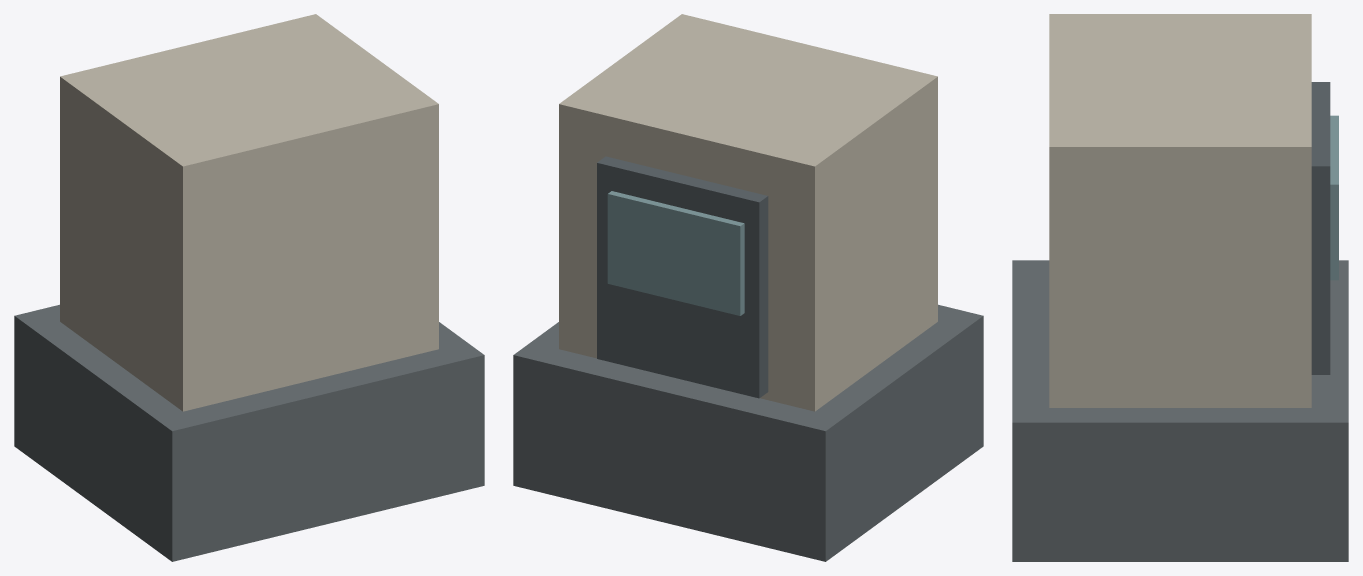
The model's file is iz3_production_anvil_01.glb.
The picture shows the model from 3 angles, left to right: view 1: azimuth 30°, elevation 25°; view 2: azimuth 150°, elevation 25°; view 3: azimuth 270°, elevation 25°; orthographic projection. The views are drawn at different scales.
Visible parts, largest first — view 1: cabinet, base; view 2: cabinet, base, panel, display; view 3: cabinet, base, panel, display.
Boxes of the visible parts, x1,y1,x2,y2 form: cabinet: [60, 14, 438, 411]; base: [14, 304, 484, 561]; cabinet: [559, 14, 937, 411]; base: [513, 304, 983, 561]; panel: [597, 156, 768, 398]; display: [607, 191, 744, 315]; cabinet: [1049, 14, 1311, 407]; base: [1012, 260, 1348, 561]; panel: [1311, 82, 1330, 374]; display: [1330, 115, 1338, 280].
Bounding box in the file's own units: 0.8 × 0.92 × 0.7.
